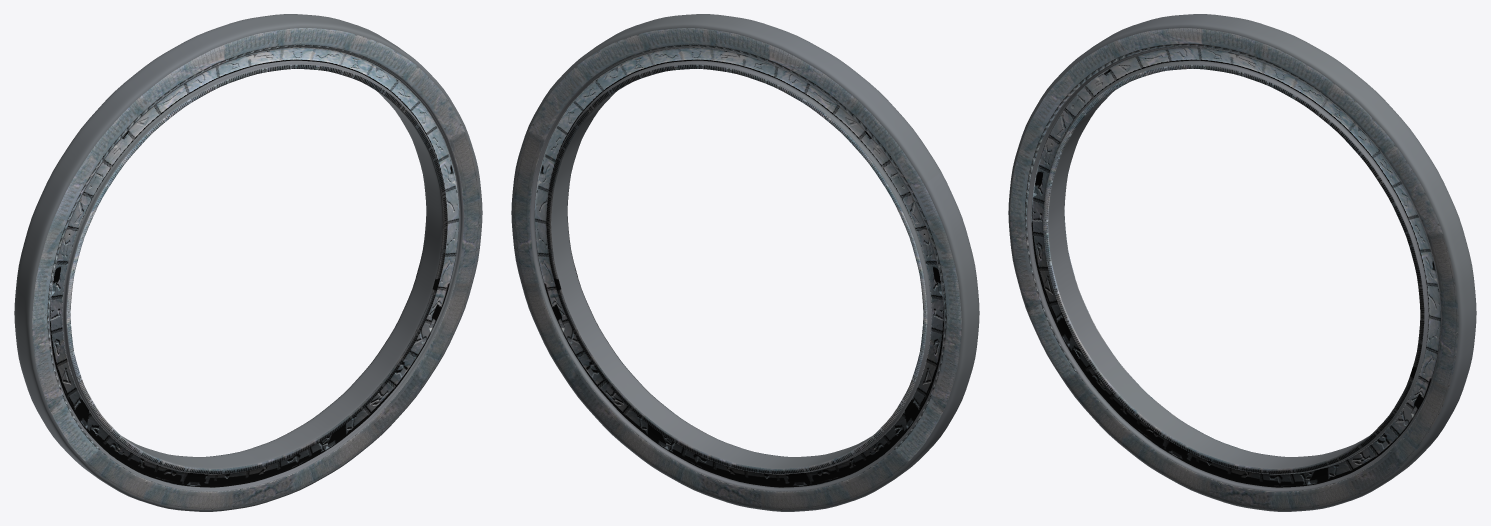
The model's file is portal_core.fbx.
The picture shows the model from 3 angles, left to right: view 1: azimuth 30°, elevation 25°; view 2: azimuth 150°, elevation 25°; view 3: azimuth 330°, elevation 25°; orthographic projection.
Visible parts, largest first — view 1: Cylinder.002; view 2: Cylinder.002; view 3: Cylinder.002.
Part boxes in pixels (bbox=[...]): Cylinder.002: bbox=[14, 14, 482, 511]; Cylinder.002: bbox=[511, 14, 979, 511]; Cylinder.002: bbox=[1008, 14, 1476, 511].
Size of the model in its own units: 199 by 199 by 13.42.
